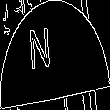N_S: (42, 28, 68, 82)
